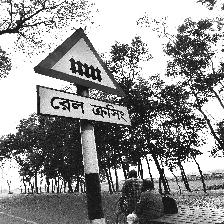Rail-crossing: (33, 27, 132, 128)
